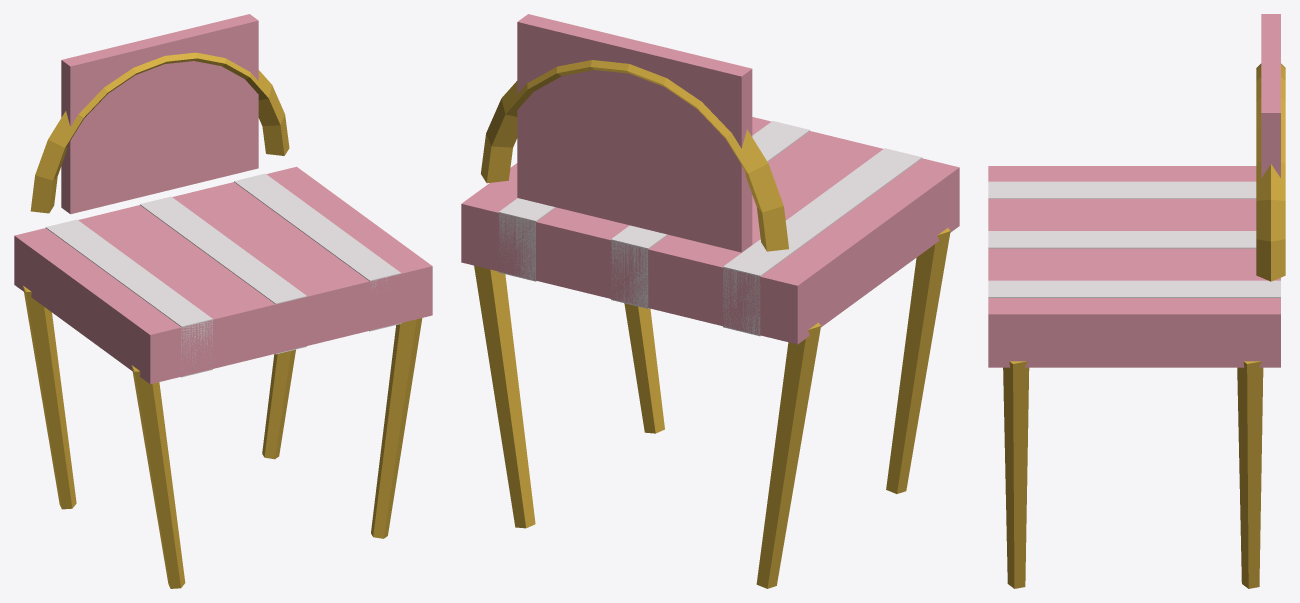
The model's file is lot_chair.glb.
The picture shows the model from 3 angles, left to right: view 1: azimuth 30°, elevation 25°; view 2: azimuth 150°, elevation 25°; view 3: azimuth 270°, elevation 25°; orthographic projection. The views are drawn at different scales.
Parts seen in each view (by area): view 1: seat_cushion_pink, back_cushion_pink, legs_auction_gold (×4), stripes_cushion_white (×3), back_auction_gold; view 2: seat_cushion_pink, back_cushion_pink, legs_auction_gold (×4), stripes_cushion_white (×3), back_auction_gold; view 3: seat_cushion_pink, stripes_cushion_white (×3), legs_auction_gold (×2), back_auction_gold, back_cushion_pink.
Boxes of the visible parts, x1=… form: seat_cushion_pink: x1=14, y1=166, x2=432, y2=384; back_cushion_pink: x1=61, y1=14, x2=258, y2=214; legs_auction_gold (×4): x1=23, y1=285, x2=422, y2=588; stripes_cushion_white (×3): x1=45, y1=173, x2=401, y2=377; back_auction_gold: x1=30, y1=52, x2=289, y2=213; seat_cushion_pink: x1=461, y1=117, x2=959, y2=344; back_cushion_pink: x1=517, y1=14, x2=752, y2=252; legs_auction_gold (×4): x1=474, y1=228, x2=950, y2=588; stripes_cushion_white (×3): x1=498, y1=121, x2=922, y2=336; back_auction_gold: x1=481, y1=60, x2=788, y2=251; seat_cushion_pink: x1=988, y1=166, x2=1280, y2=367; stripes_cushion_white (×3): x1=988, y1=181, x2=1280, y2=297; legs_auction_gold (×2): x1=1003, y1=361, x2=1263, y2=588; back_auction_gold: x1=1256, y1=63, x2=1285, y2=281; back_cushion_pink: x1=1261, y1=14, x2=1280, y2=177.
Bounding box in the file's own units: 0.3701 × 0.5298 × 0.305.
